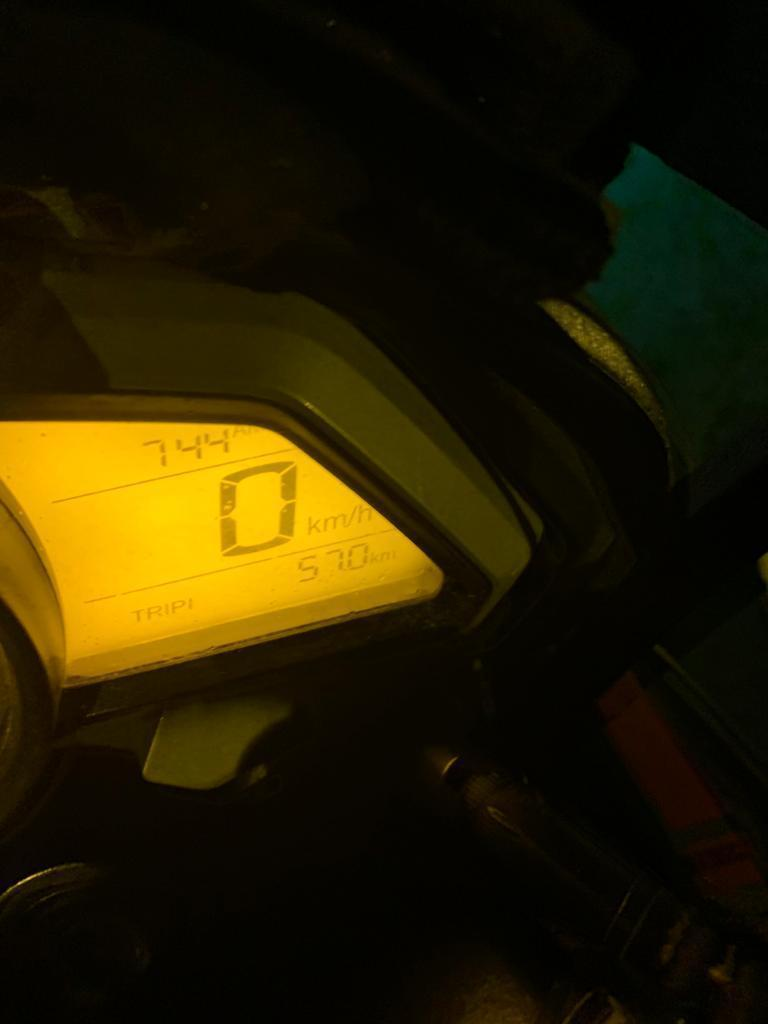-: (343, 566, 346, 573)
0: (347, 541, 367, 569)
1: (187, 593, 193, 613)
4: (173, 432, 202, 460), (203, 428, 229, 453)
5: (296, 553, 321, 583)
7: (140, 436, 169, 468), (325, 547, 343, 569)
X: (322, 514, 344, 531), (357, 501, 372, 524), (306, 514, 321, 536), (344, 504, 357, 526), (170, 598, 185, 614), (130, 606, 145, 622), (146, 604, 162, 618), (232, 423, 246, 437), (379, 549, 396, 560), (370, 550, 378, 564), (162, 601, 169, 616)
odometer: (0, 394, 451, 693)
